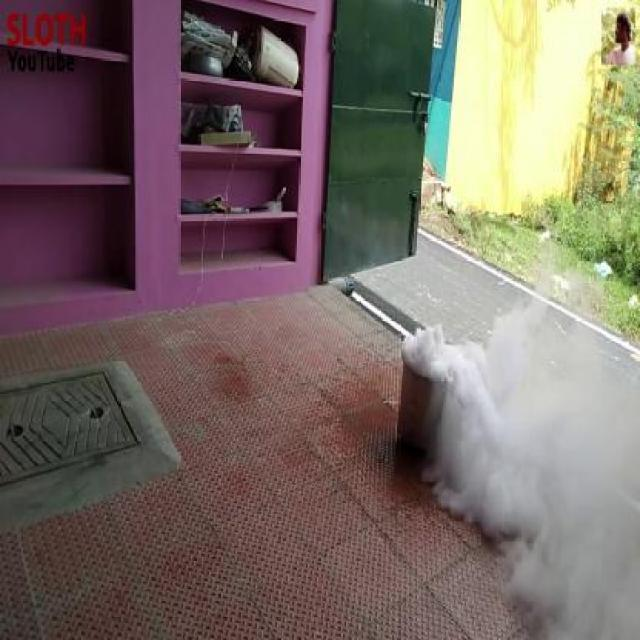smoke: (405, 282, 610, 580)
